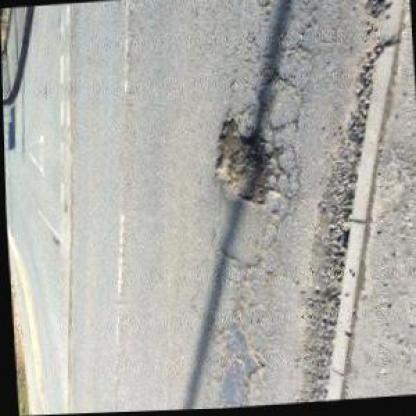pothole: (208, 111, 283, 213)
